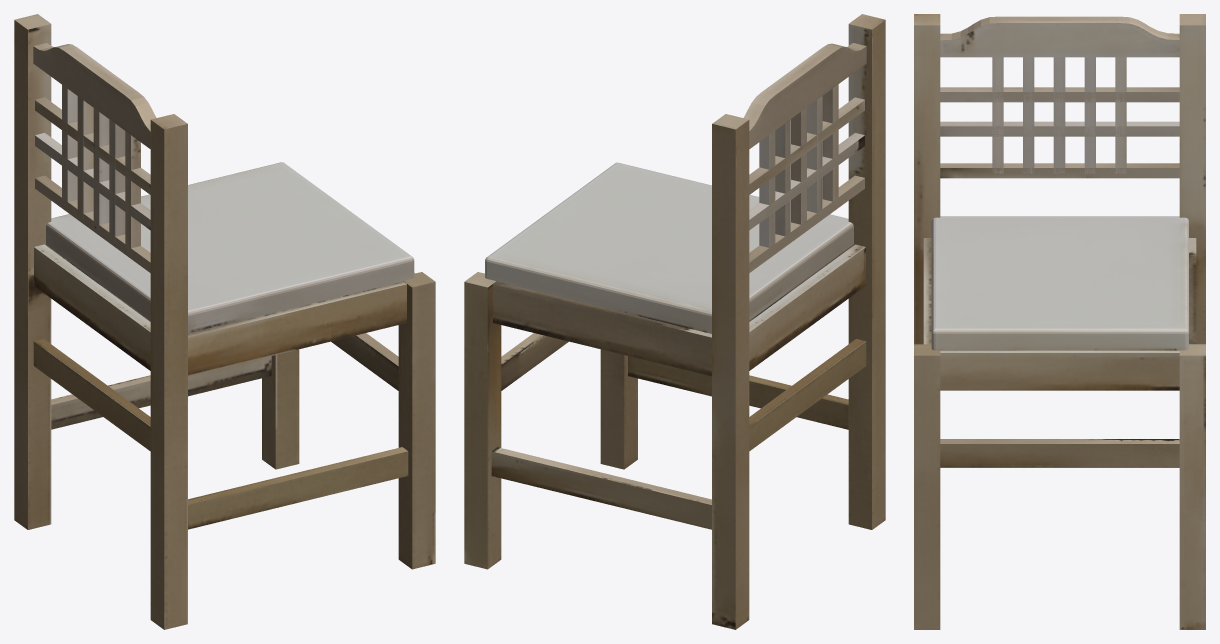
3 renders of one model, left to right at view 1: azimuth 30°, elevation 25°; view 2: azimuth 150°, elevation 25°; view 3: azimuth 270°, elevation 25°, orthographic. The views are drawn at different scales.
Visible parts, largest first — view 1: Node; view 2: Node; view 3: Node.
Part boxes in pixels (bbox=[...]): Node: bbox=[14, 14, 435, 629]; Node: bbox=[464, 14, 885, 629]; Node: bbox=[914, 14, 1205, 629].
Bounding box in the file's own units: 0.3974 × 0.7 × 0.3803.
Materials: 1 (1 with a texture image).
